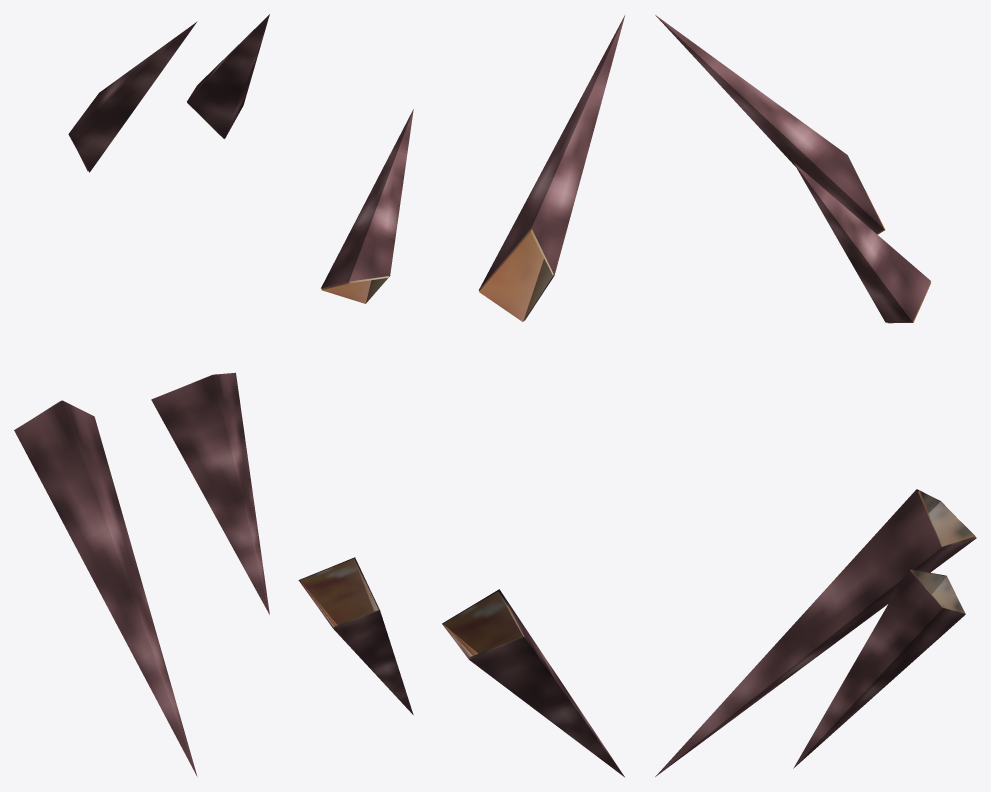
3 renders of one model, left to right at view 1: azimuth 30°, elevation 25°; view 2: azimuth 150°, elevation 25°; view 3: azimuth 270°, elevation 25°, orthographic.
Parts seen in each view (by area): view 1: B_0117_2a_0; view 2: B_0117_2a_0, B_0117_2a_1; view 3: B_0117_2a_0, B_0117_2a_1.
Boxes of the visible parts, x1=… form: B_0117_2a_0: x1=14, y1=14, x2=269, y2=776; B_0117_2a_0: x1=298, y1=15, x2=624, y2=777; B_0117_2a_1: x1=300, y1=228, x2=553, y2=658; B_0117_2a_0: x1=655, y1=15, x2=976, y2=776; B_0117_2a_1: x1=856, y1=172, x2=975, y2=613.
Bounding box in the file's own units: 2.08 × 6.74 × 2.58.
Materials: 2 (2 with a texture image).
